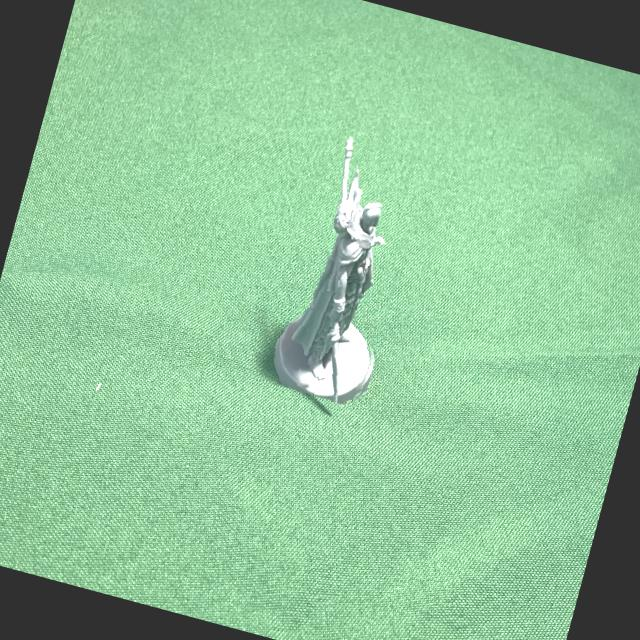isis_follower: (248, 124, 434, 410)
